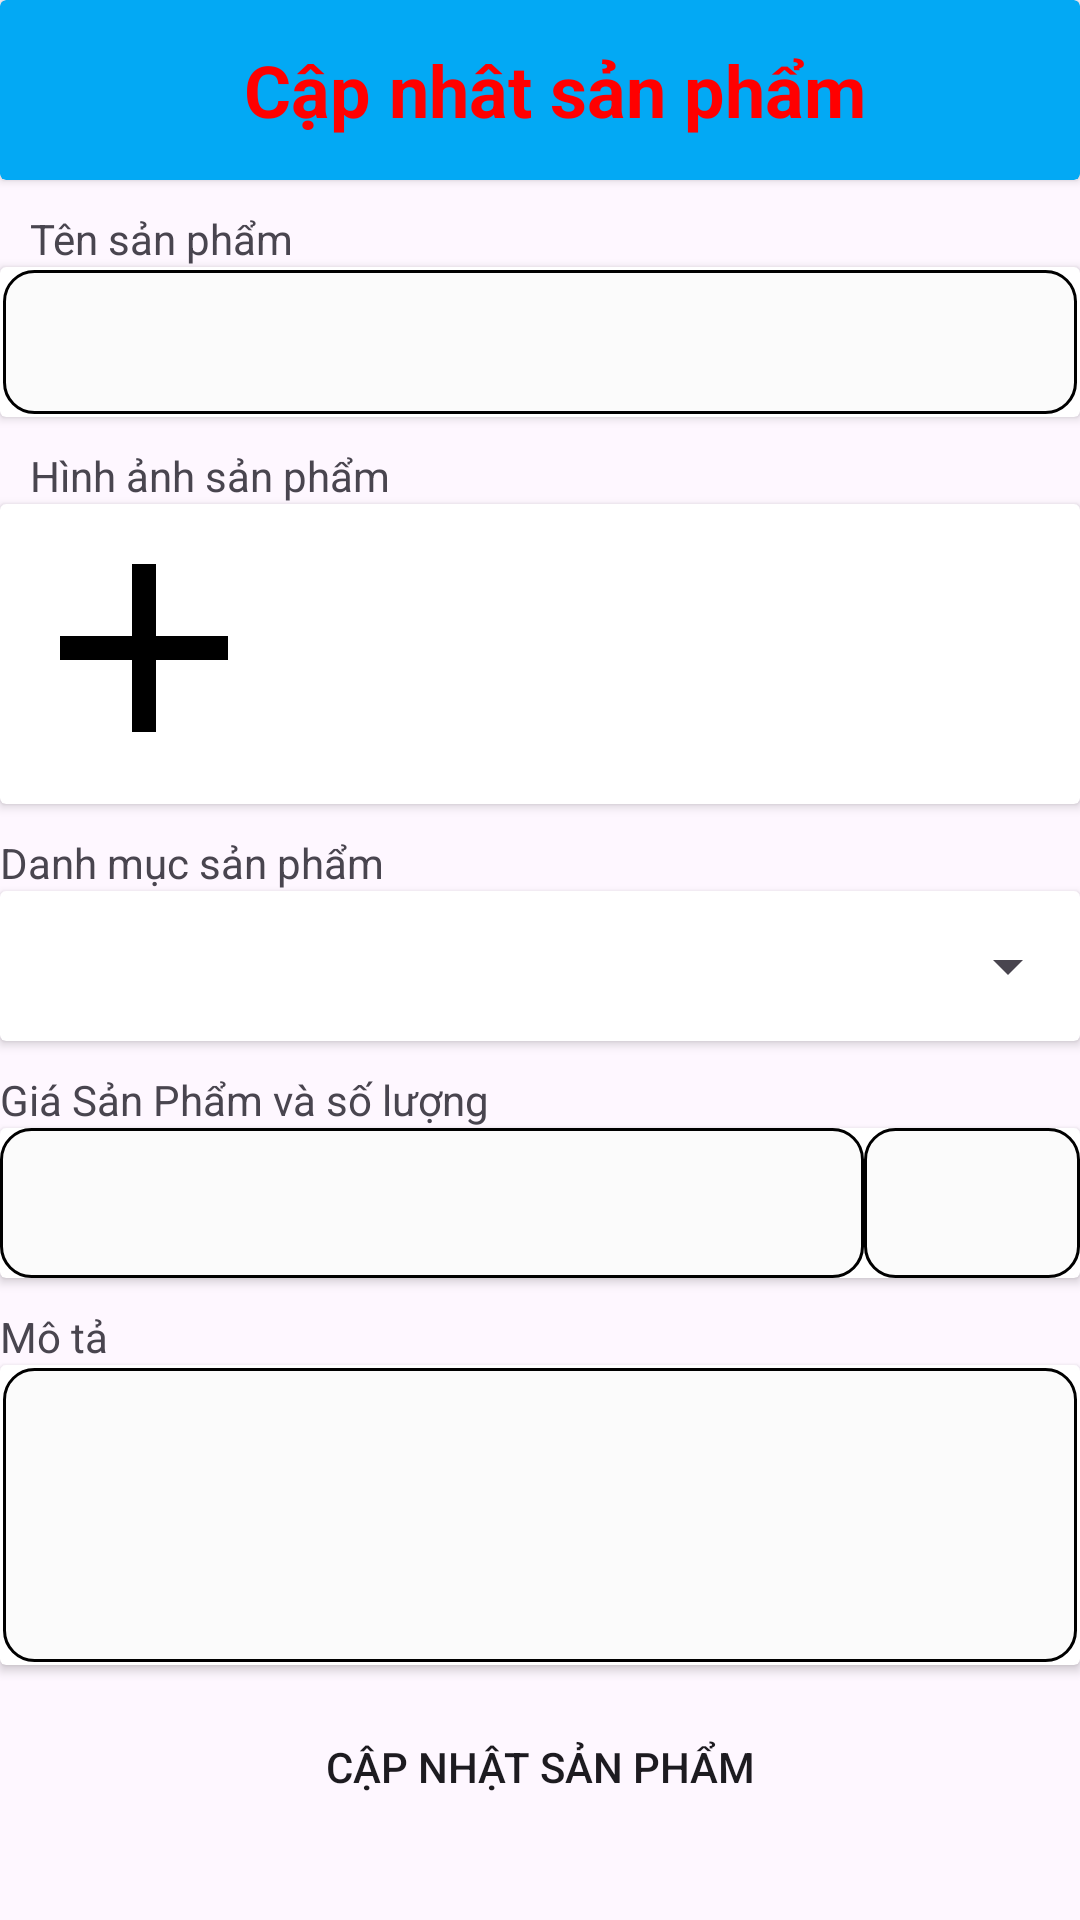

Screen size 1080 × 1920. Icon name, then its box in pixels as [x1, y1, x2, y2]:
add: [0, 504, 228, 732]
